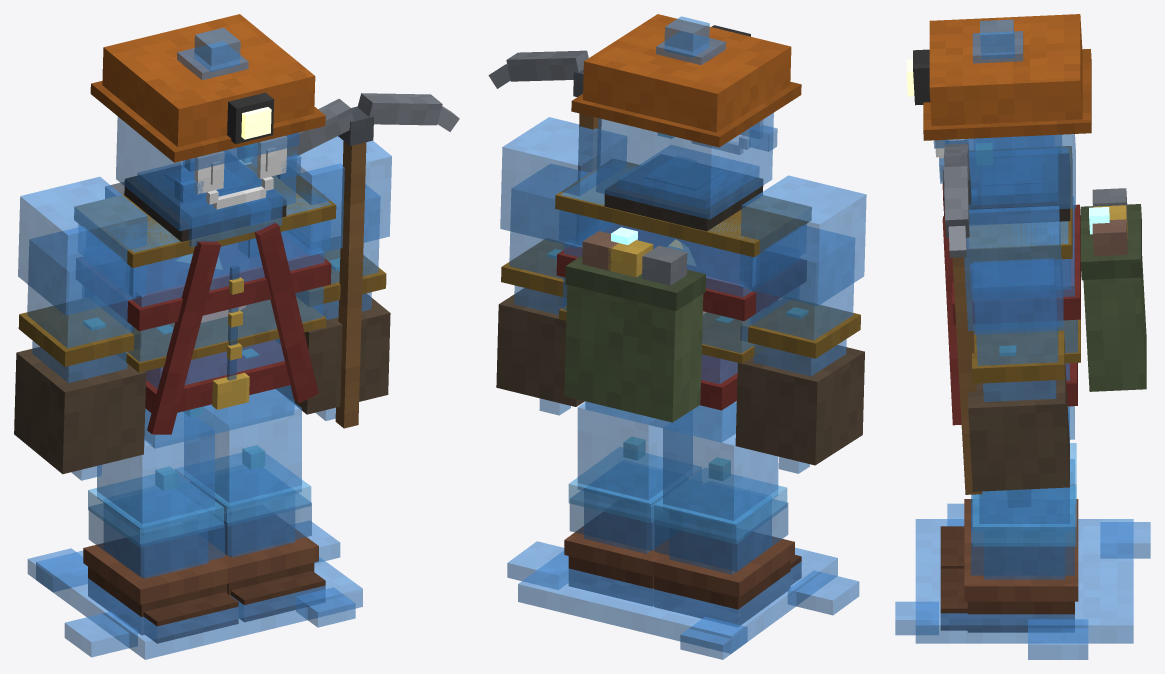
The model's file is slime_mineur_v2.glb.
The picture shows the model from 3 angles, left to right: view 1: azimuth 30°, elevation 25°; view 2: azimuth 150°, elevation 25°; view 3: azimuth 270°, elevation 25°; orthographic projection. The views are drawn at different scales.
Parts seen in each view (by area): view 1: Torso, Head, ArmR, LegR, LegL, ArmL, Root, HandL; view 2: Torso, Head, ArmR, LegR, ArmL, LegL, Root, HandL; view 3: Head, ArmL, Torso, Root, LegL, HandL, LegR, ArmR.
Part boxes in pixels (<box>): Torso: <box>74,163,336,448</box>; Head: <box>90,14,325,258</box>; ArmR: <box>14,176,147,480</box>; LegR: <box>83,409,238,643</box>; LegL: <box>175,389,325,621</box>; ArmL: <box>275,136,391,420</box>; Root: <box>27,520,362,659</box>; HandL: <box>251,93,459,428</box>; Torso: <box>555,162,811,442</box>; Head: <box>571,14,801,231</box>; ArmR: <box>735,175,866,473</box>; LegR: <box>650,403,801,625</box>; ArmL: <box>496,117,626,415</box>; LegL: <box>564,402,701,606</box>; Root: <box>507,541,859,659</box>; HandL: <box>488,50,601,172</box>; Head: <box>906,14,1091,225</box>; ArmL: <box>964,205,1069,507</box>; Torso: <box>942,146,1146,439</box>; Root: <box>895,503,1150,659</box>; LegL: <box>940,411,1078,632</box>; HandL: <box>943,140,982,494</box>; LegR: <box>940,406,1078,568</box>; ArmR: <box>964,135,1061,153</box>.
Bounding box in the file's own units: 1.33 × 1.86 × 0.76.
36 materials, 36 textured.
